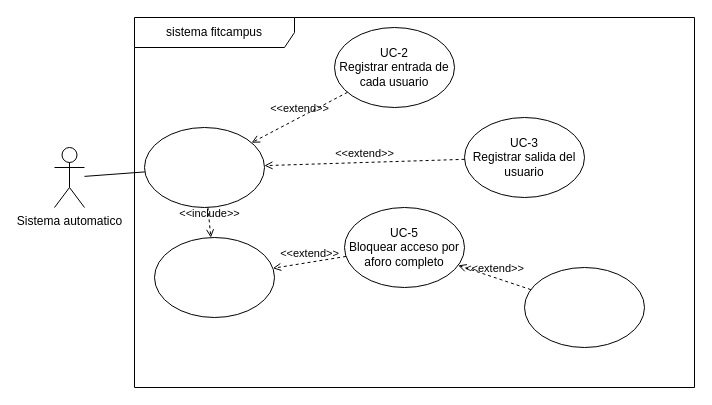
Some shapes in this 712 by 405 pixel diagram are drawn without their labels. Here are the shapes that lost their labels. From the top down, the centre of each, then its label:
the point at 204,167: UC-01 Controlar aforo en tiempo real
the point at 214,277: UC-4 notificar aforo maximo
the point at 584,307: UC-6 Gestionar fila virtual
